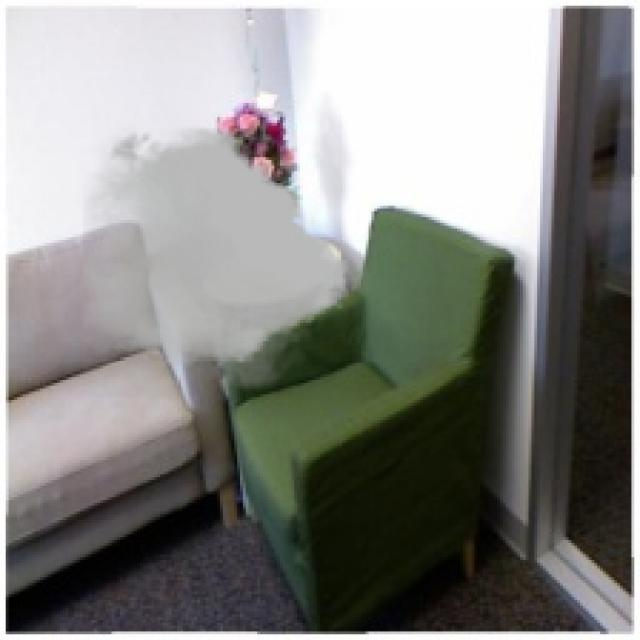smoke: (83, 123, 348, 397)
